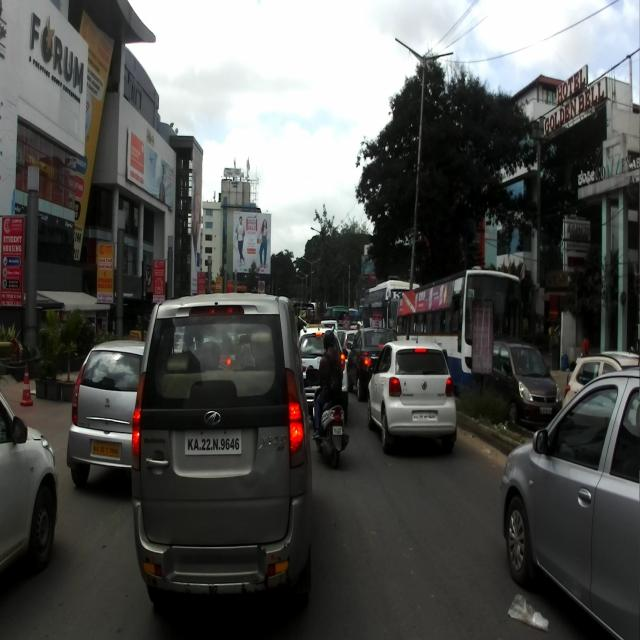bus: (395, 266, 523, 388)
car: (132, 290, 314, 616), (499, 367, 639, 639), (66, 342, 150, 491), (365, 328, 458, 457)
scooter: (306, 368, 348, 468)
